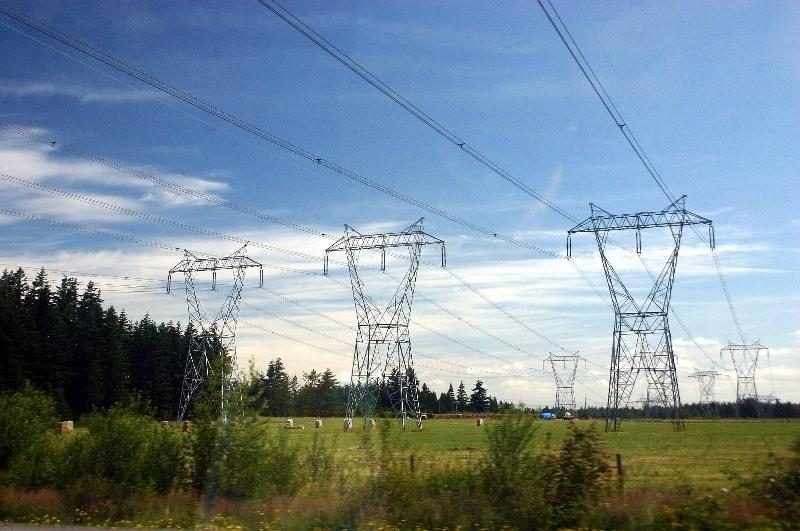power_tower: (567, 197, 716, 432), (323, 216, 447, 433), (165, 240, 265, 430), (721, 339, 770, 418), (541, 348, 583, 420), (687, 362, 722, 418)
